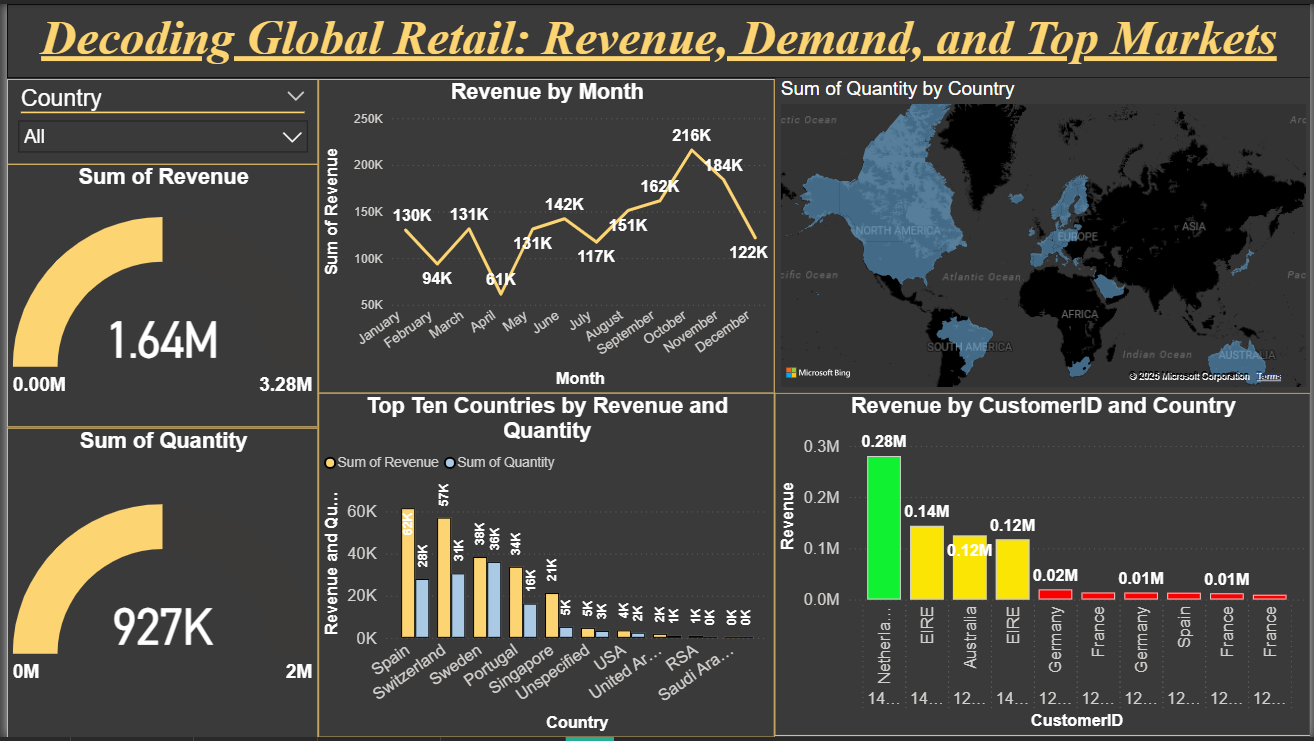

The page's visual inventory and layout, read from the dashboard file:
{"tool":"powerbi","page":{"name":"Dashboard","canvas":[1280,720],"ordinal":4},"visuals":[{"type":"lineChart","title":" Revenue by Month","fields":{"Category":["Online Retail.InvoiceDate.Variation.Date Hierarchy.Month"],"Y":["Sum(Online Retail.Revenue)"]},"box":[305.9,73.1,448,308.6],"z":0},{"type":"clusteredColumnChart","title":"Top Ten Countries by Revenue and Quantity","fields":{"Category":["Online Retail.Country"],"Y":["Sum(Online Retail.Revenue)","Sum(Online Retail.Quantity)"]},"box":[305.9,381.6,448,338.3],"z":1000},{"type":"clusteredColumnChart","title":"Revenue by CustomerID and Country","fields":{"Category":["Online Retail.CustomerID","Online Retail.Country"],"Y":["Sum(Online Retail.Revenue)"]},"box":[753.8,381.6,526.5,337],"z":2000},{"type":"textbox","box":[0,0,1280.3,73.1],"z":3000},{"type":"gauge","fields":{"Y":["Sum(Online Retail.Revenue)"]},"box":[0,157,305.9,258.5],"z":4000},{"type":"gauge","fields":{"Y":["Sum(Online Retail.Quantity)"]},"box":[0,415.5,305.9,304.5],"z":5000},{"type":"slicer","fields":{"Values":["Online Retail.Country"]},"box":[0,73.1,305.9,83.9],"z":6000},{"type":"filledMap","fields":{"Category":["Online Retail.Country"]},"box":[754,73,526,309],"z":7000}]}

Visuals, with their boxes in screenshot pixels (x1, y1, x2, y2), scaled from the page's 1280x720 canvas onto the 1314x741 screenshot:
" Revenue by Month" lineChart: locate(314, 75, 774, 393)
"Top Ten Countries by Revenue and Quantity" clusteredColumnChart: locate(314, 393, 774, 740)
"Revenue by CustomerID and Country" clusteredColumnChart: locate(774, 393, 1313, 740)
textbox: locate(0, 0, 1313, 75)
gauge - Sum(Online Retail.Revenue): locate(0, 162, 314, 428)
gauge - Sum(Online Retail.Quantity): locate(0, 428, 314, 740)
slicer - Online Retail.Country: locate(0, 75, 314, 162)
filledMap - Online Retail.Country: locate(774, 75, 1313, 393)
